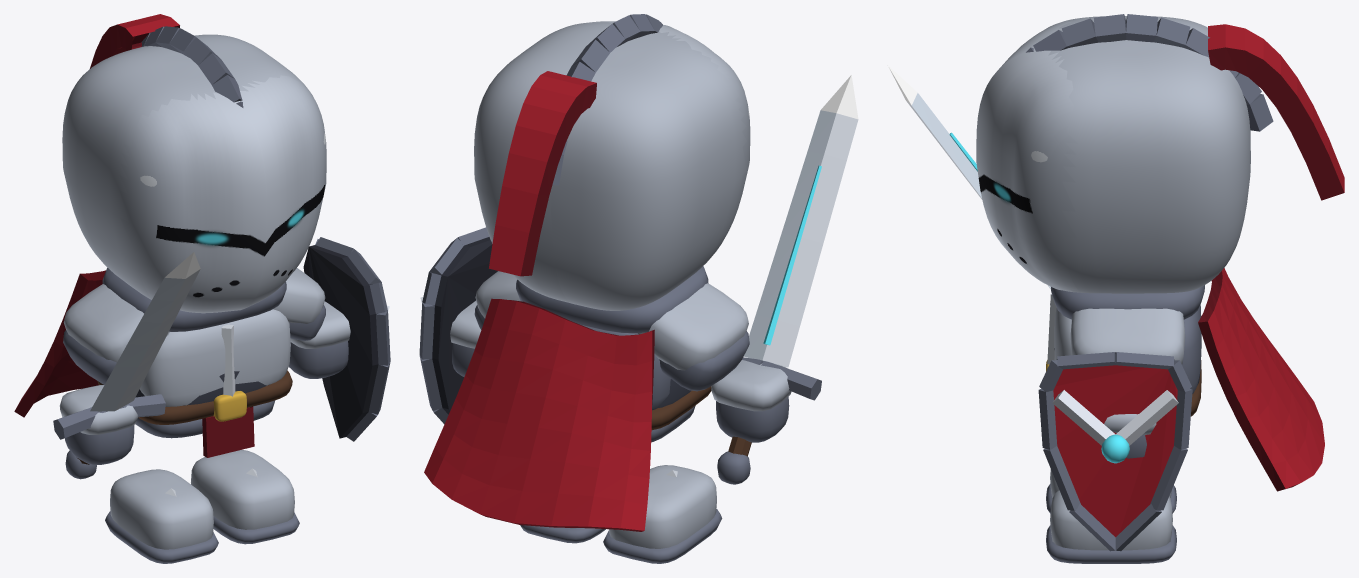
Rendered from knight.obj.
The picture shows the model from 3 angles, left to right: view 1: azimuth 30°, elevation 25°; view 2: azimuth 150°, elevation 25°; view 3: azimuth 270°, elevation 25°; orthographic projection. The views are drawn at different scales.
Parts seen in each view (by area): view 1: knight; view 2: knight; view 3: knight.
Part boxes in pixels (x1,y1,x2,y2): knight: [14, 14, 390, 563]; knight: [419, 14, 858, 563]; knight: [887, 14, 1344, 563].
Size of the model in its own units: 1.03 by 1.38 by 1.11.
1 material, 1 textured.
